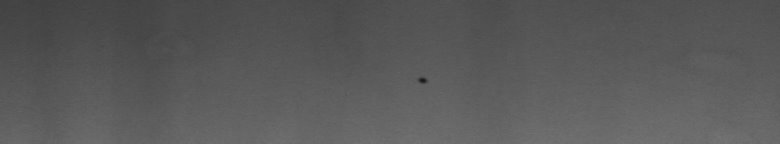fi: (416, 72, 431, 91)
